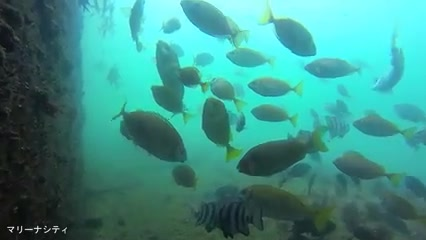smallfish: (235, 181, 345, 235), (108, 98, 199, 162), (326, 146, 405, 190), (197, 98, 242, 162), (304, 53, 368, 87), (354, 115, 418, 146), (246, 73, 313, 99), (247, 100, 303, 129), (164, 159, 204, 196), (224, 44, 276, 72)
